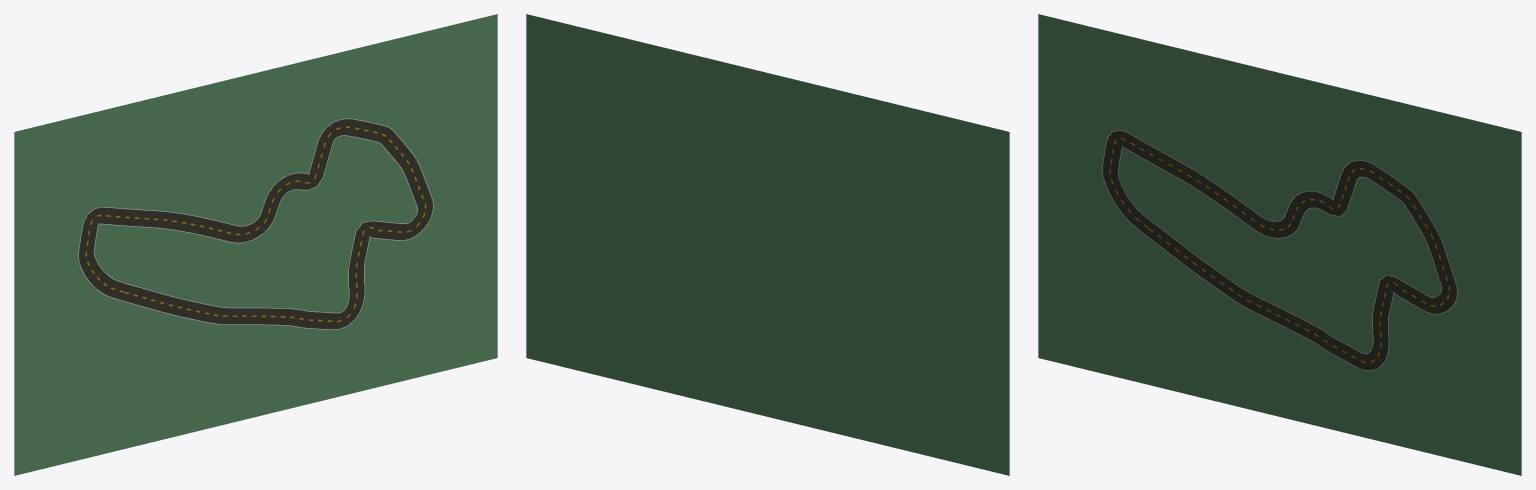
The model's file is track.obj.
3 views of the same model, side by side, from view 1: azimuth 30°, elevation 25°; view 2: azimuth 150°, elevation 25°; view 3: azimuth 330°, elevation 25° (orthographic).
Bounding box in the file's own units: 31.86 × 21.66 × 0.0025.
4 materials, 4 textured.
